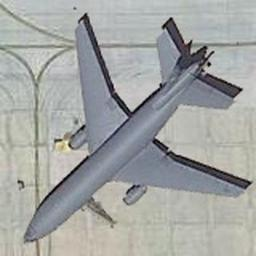Airplane: (22, 11, 252, 243)
